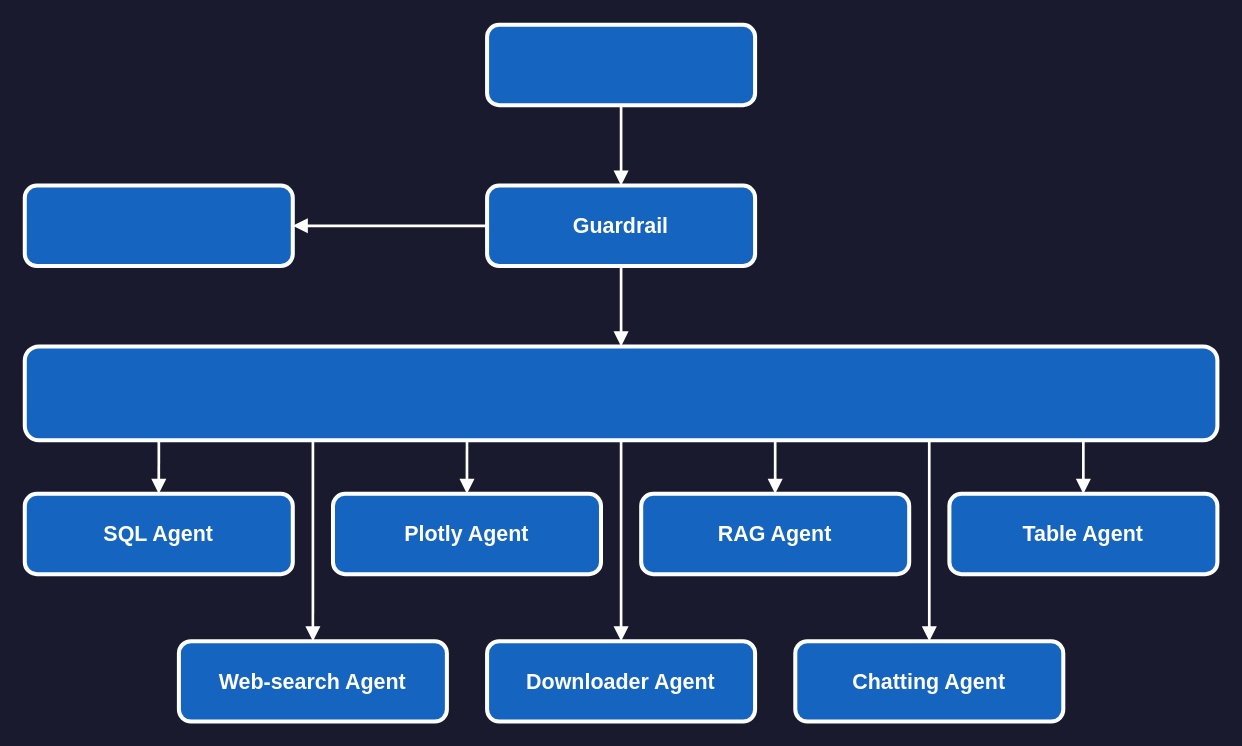
Image size: 1242x746. Some labels were removed from this diagram. Here are the shapes that lost their labels. From the top down, the centre of each, then its label:
(x=620, y=64): User Query
(x=158, y=225): Stop Dialog
(x=620, y=393): Router Agent
